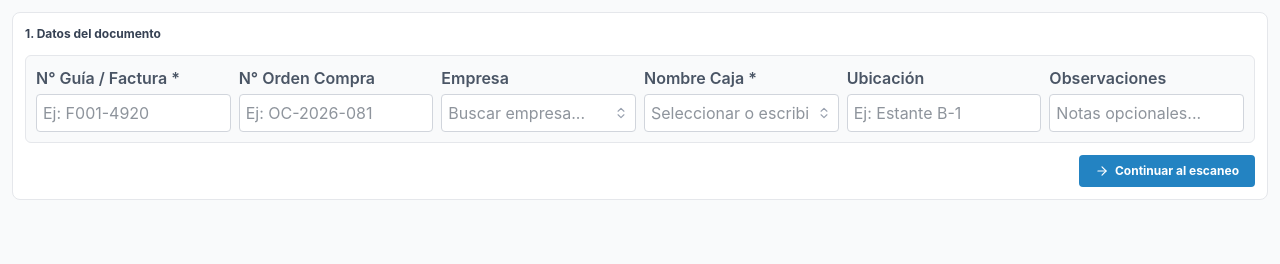
Test: IngresoPorDocumento › cabecera: exige los mismos campos que Ingresos y avisa del documento duplicado
Click the button "Continuar al escaneo": (1167, 171) 1079,155 -> 1255,187
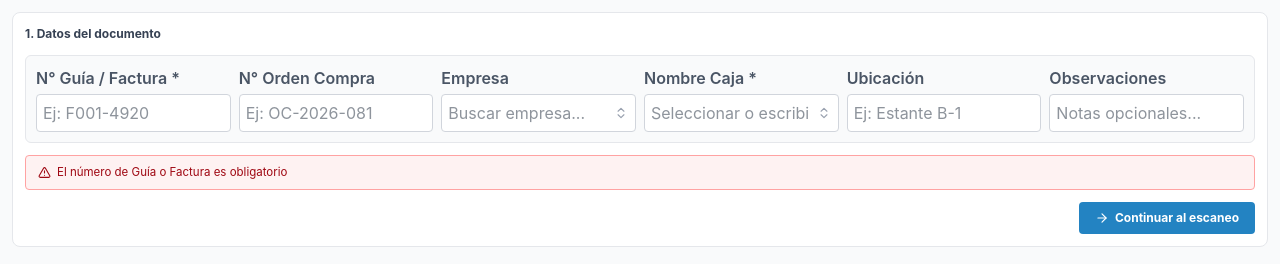
Now the text "El número de Guía o Factura es obligatorio" is shown, box 25,155 -> 1255,190
In the field with placeholder "Ej: F001-4920": (133, 113) 36,94 -> 231,132, type "F-100"
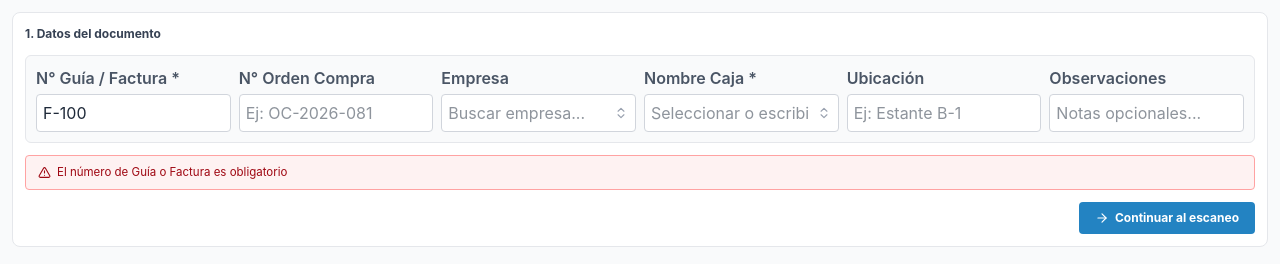
In the field with placeholder "Ej: OC-2026-081": (336, 113) 239,94 -> 433,132, type "OC-1"
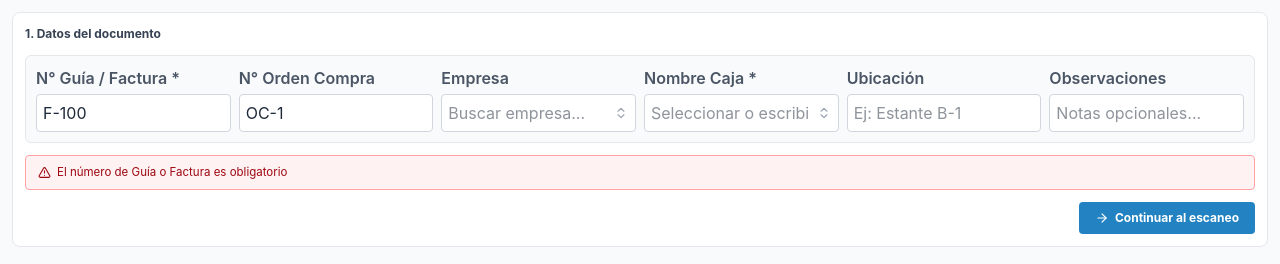
In the field with placeholder "Seleccionar o escribir...": (741, 113) 644,94 -> 839,132, type "Caja 1"
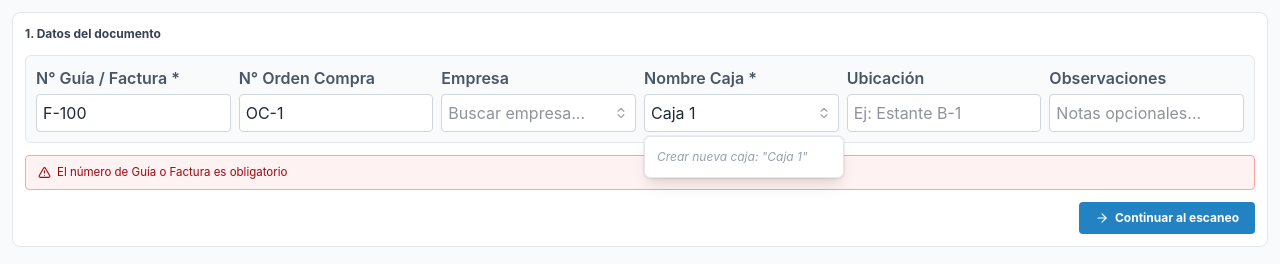
Click the button "Continuar al escaneo": (1167, 218) 1079,202 -> 1255,234
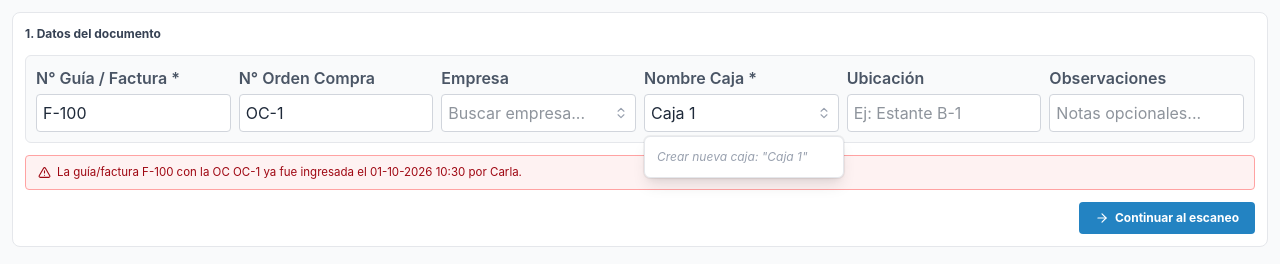
Now the text "ya fue ingresada el 01-10-2026 10:30 por Carla" is shown, box 57,165 -> 522,179
